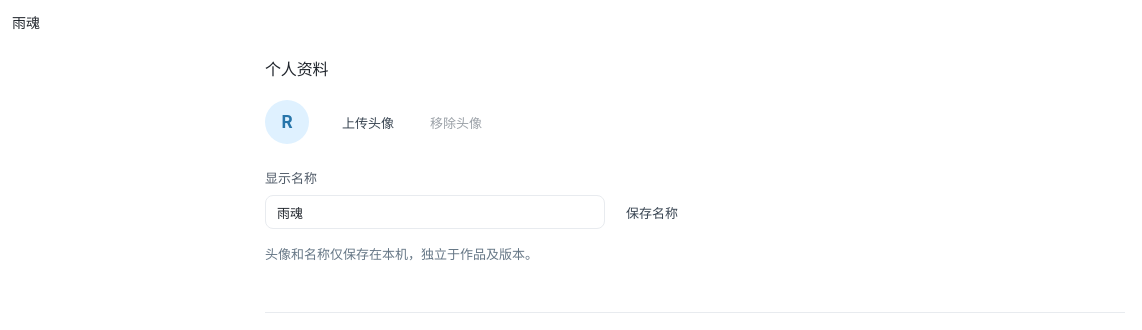
个人资料交互 › 加载本机资料，名称提交成功后更新显示
Replace the text in the field labelled "显示名称" with "新作者" at (435, 212), box x1=265 y1=195 x2=605 y2=229
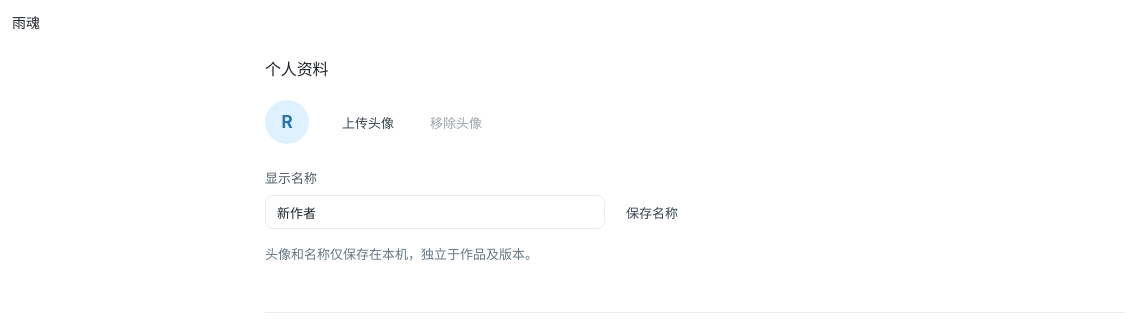
Click the button "保存名称" at (652, 212), box x1=613 y1=195 x2=691 y2=229
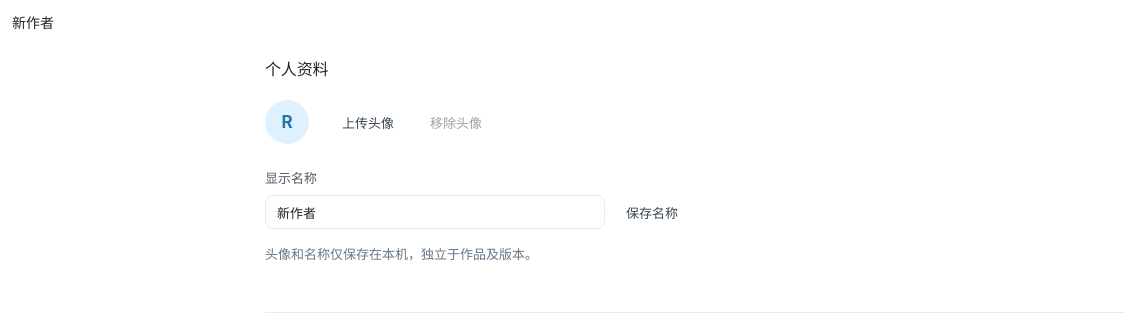
Now the text with test id "name" reads "新作者", box x1=12 y1=14 x2=54 y2=31
